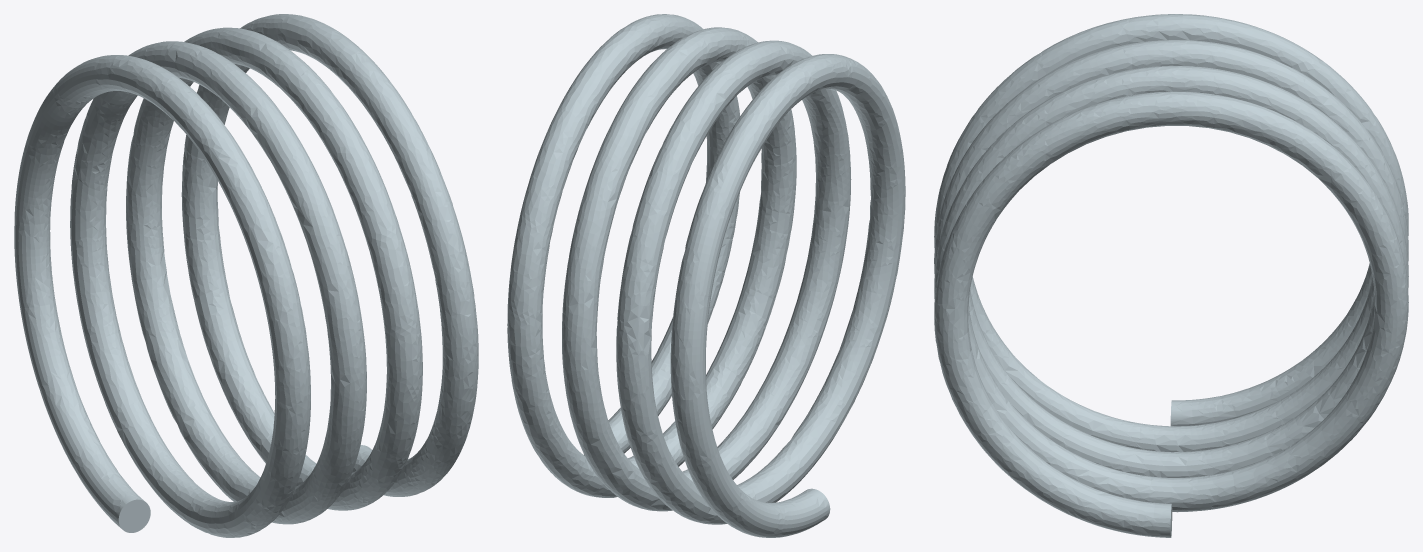
Rendered from thermostat-spring.glb.
3 renders of one model, left to right at view 1: azimuth 30°, elevation 25°; view 2: azimuth 150°, elevation 25°; view 3: azimuth 270°, elevation 25°, orthographic. The views are drawn at different scales.
Parts seen in each view (by area): view 1: world; view 2: world; view 3: world.
Boxes of the visible parts, <box> form: world: <box>14,14,478,537</box>; world: <box>507,14,905,537</box>; world: <box>934,14,1408,537</box>.
Bounding box in the file's own units: 0.0114 × 0.0194 × 0.0194.
